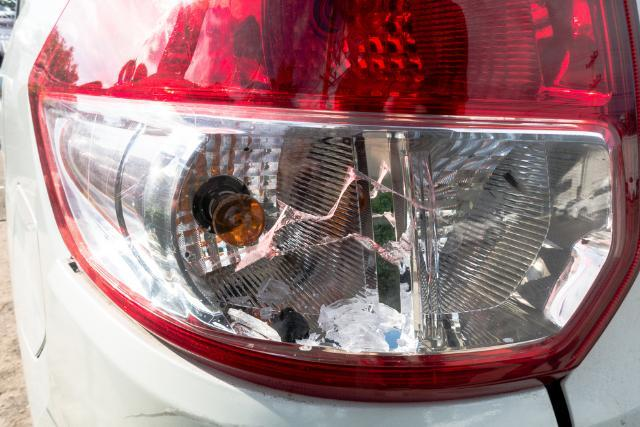Light: (174, 128, 571, 353)
